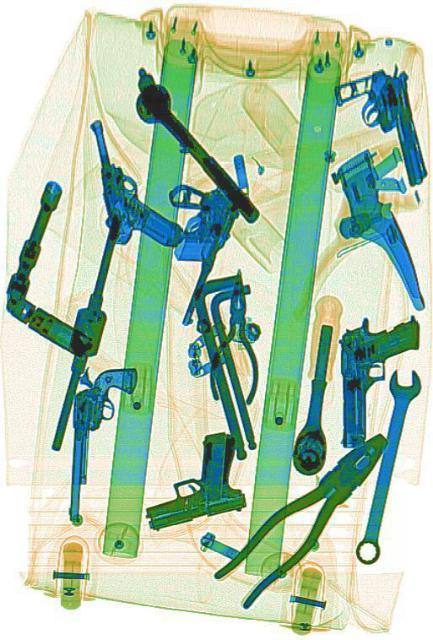Gun: (132, 151, 243, 329), (80, 94, 185, 270), (330, 54, 430, 208), (135, 426, 246, 530), (67, 362, 136, 520), (337, 316, 417, 446)
Pliers: (209, 413, 398, 621), (206, 265, 265, 405)
Wrench: (351, 360, 422, 568)
